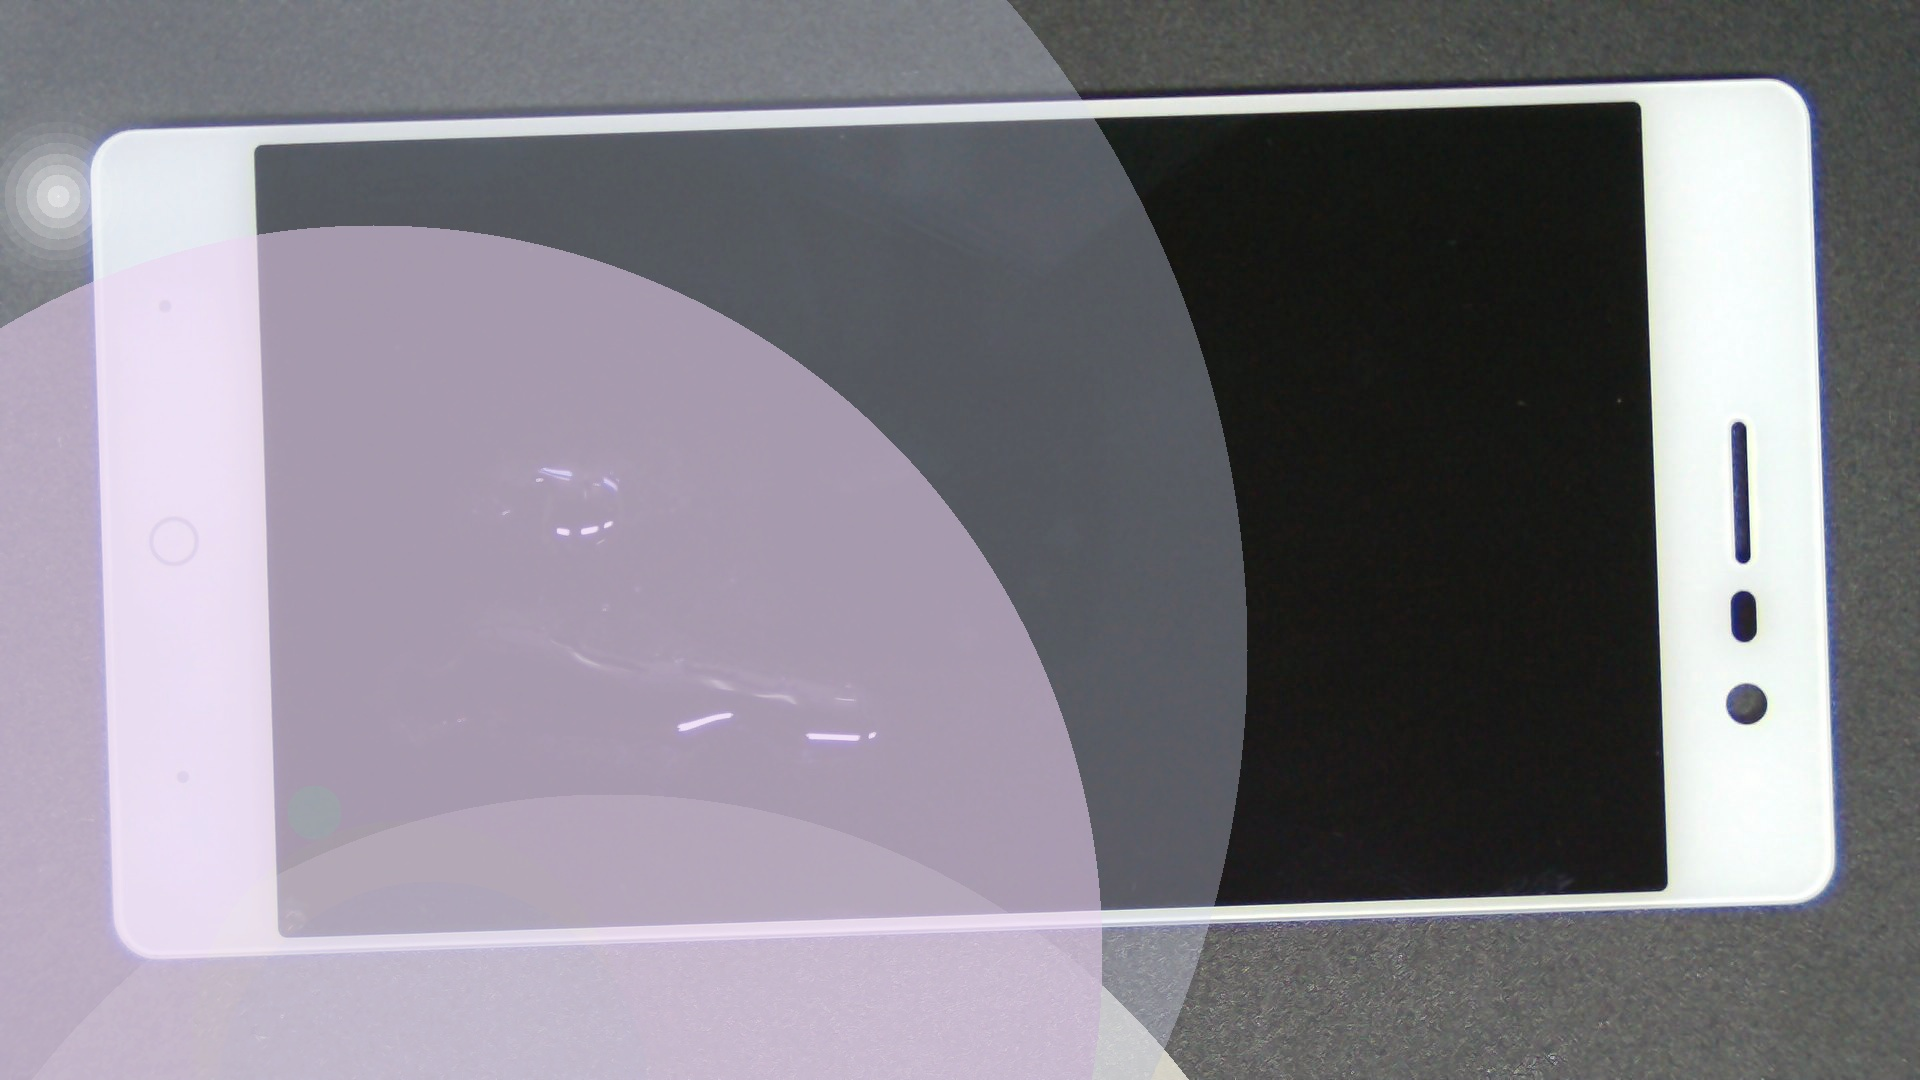oil: (251, 313, 752, 938), (269, 232, 807, 699)
